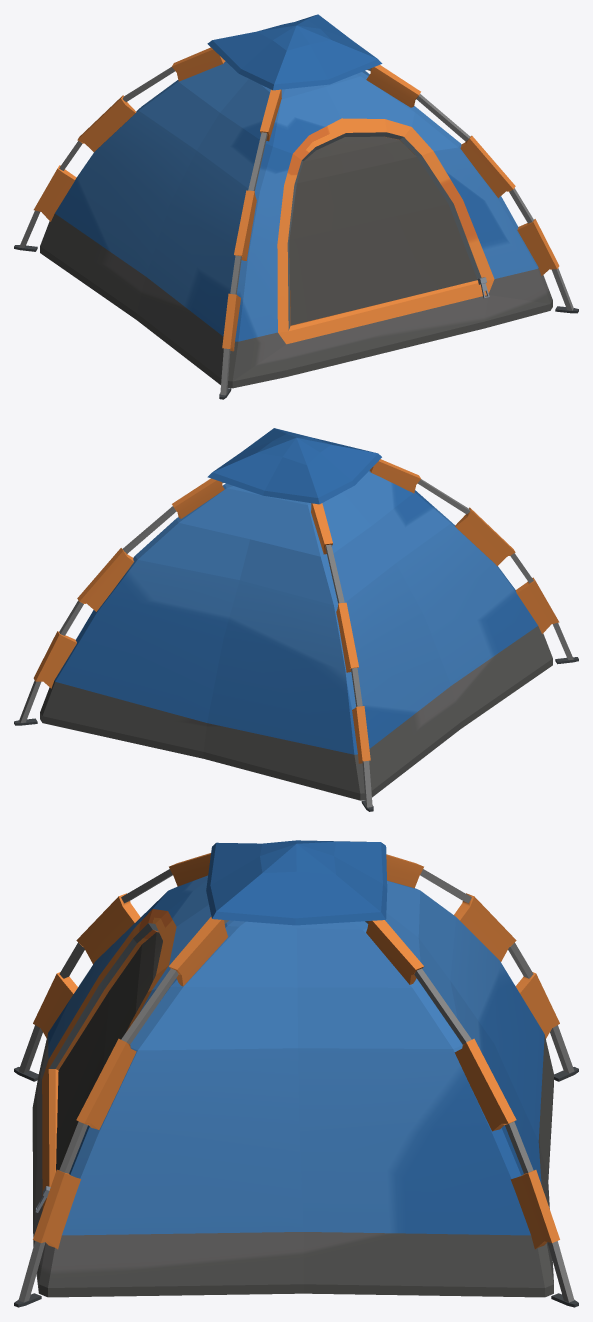
Rendered from alp_Prop_Tent_01.glb.
3 views of the same model, one above another, from view 1: azimuth 30°, elevation 25°; view 2: azimuth 150°, elevation 25°; view 3: azimuth 270°, elevation 25° (orthographic). The views are drawn at different scales.
Parts seen in each view (by area): view 1: SM_Prop_Tent_01, SM_Prop_Tent_01_Door_01; view 2: SM_Prop_Tent_01; view 3: SM_Prop_Tent_01, SM_Prop_Tent_01_Door_01.
Part boxes in pixels (x1,y1,x2,y2): SM_Prop_Tent_01: (14,14,578,399); SM_Prop_Tent_01_Door_01: (289,136,477,325); SM_Prop_Tent_01: (14,428,578,811); SM_Prop_Tent_01: (14,840,578,1307); SM_Prop_Tent_01_Door_01: (56,932,162,1170).
Size of the model in its own units: 2.61 by 1.76 by 2.62.
1 material, 1 textured.
